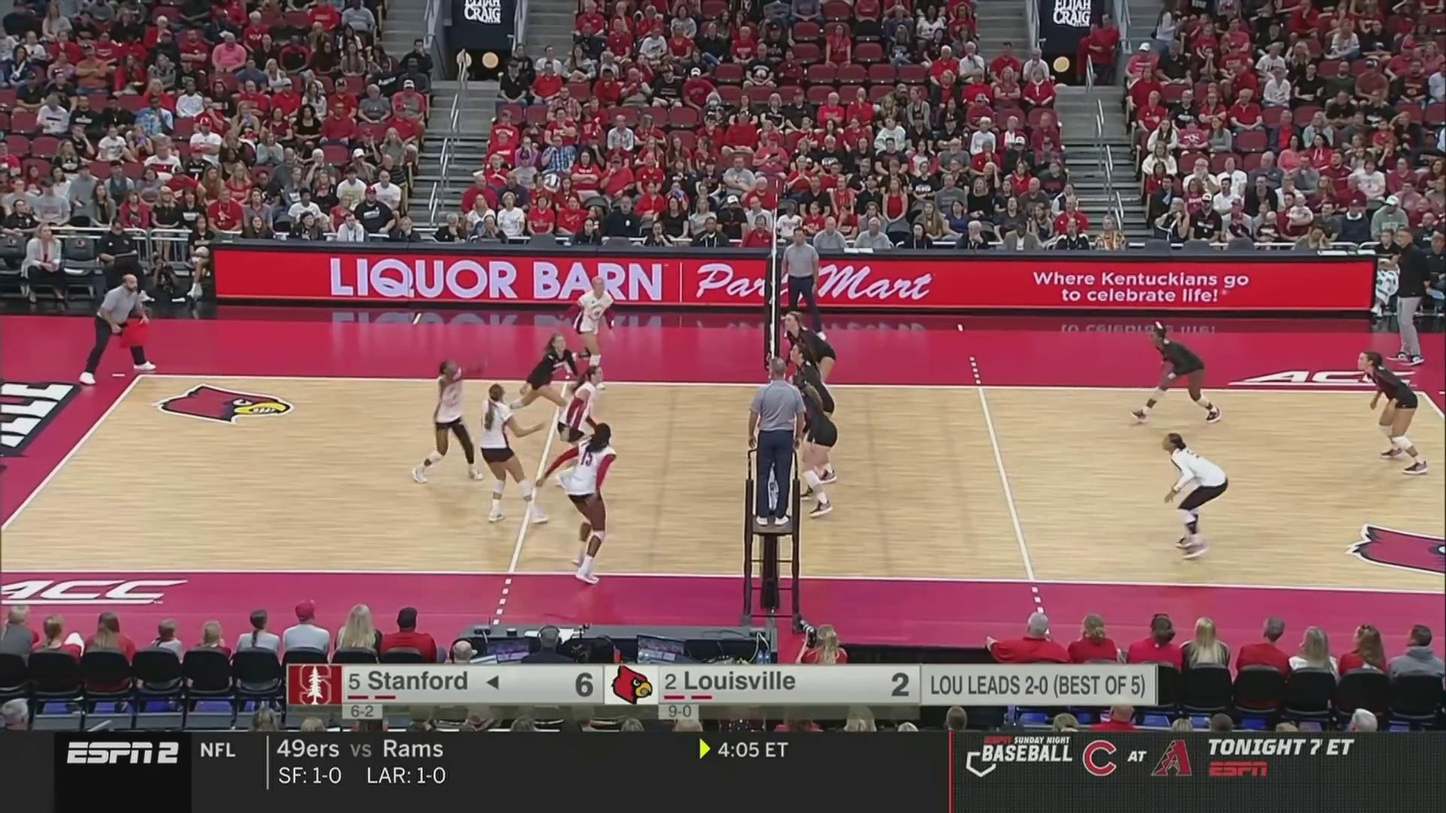player: (541, 423, 617, 579), (486, 335, 585, 428), (1353, 348, 1426, 473), (1156, 435, 1231, 555), (479, 387, 544, 524), (412, 359, 483, 482), (553, 277, 622, 397), (1130, 327, 1217, 421), (548, 365, 607, 492), (786, 345, 839, 485), (783, 374, 836, 513), (781, 310, 836, 441)
refree: (754, 365, 806, 526), (92, 270, 161, 379), (781, 228, 823, 341)
